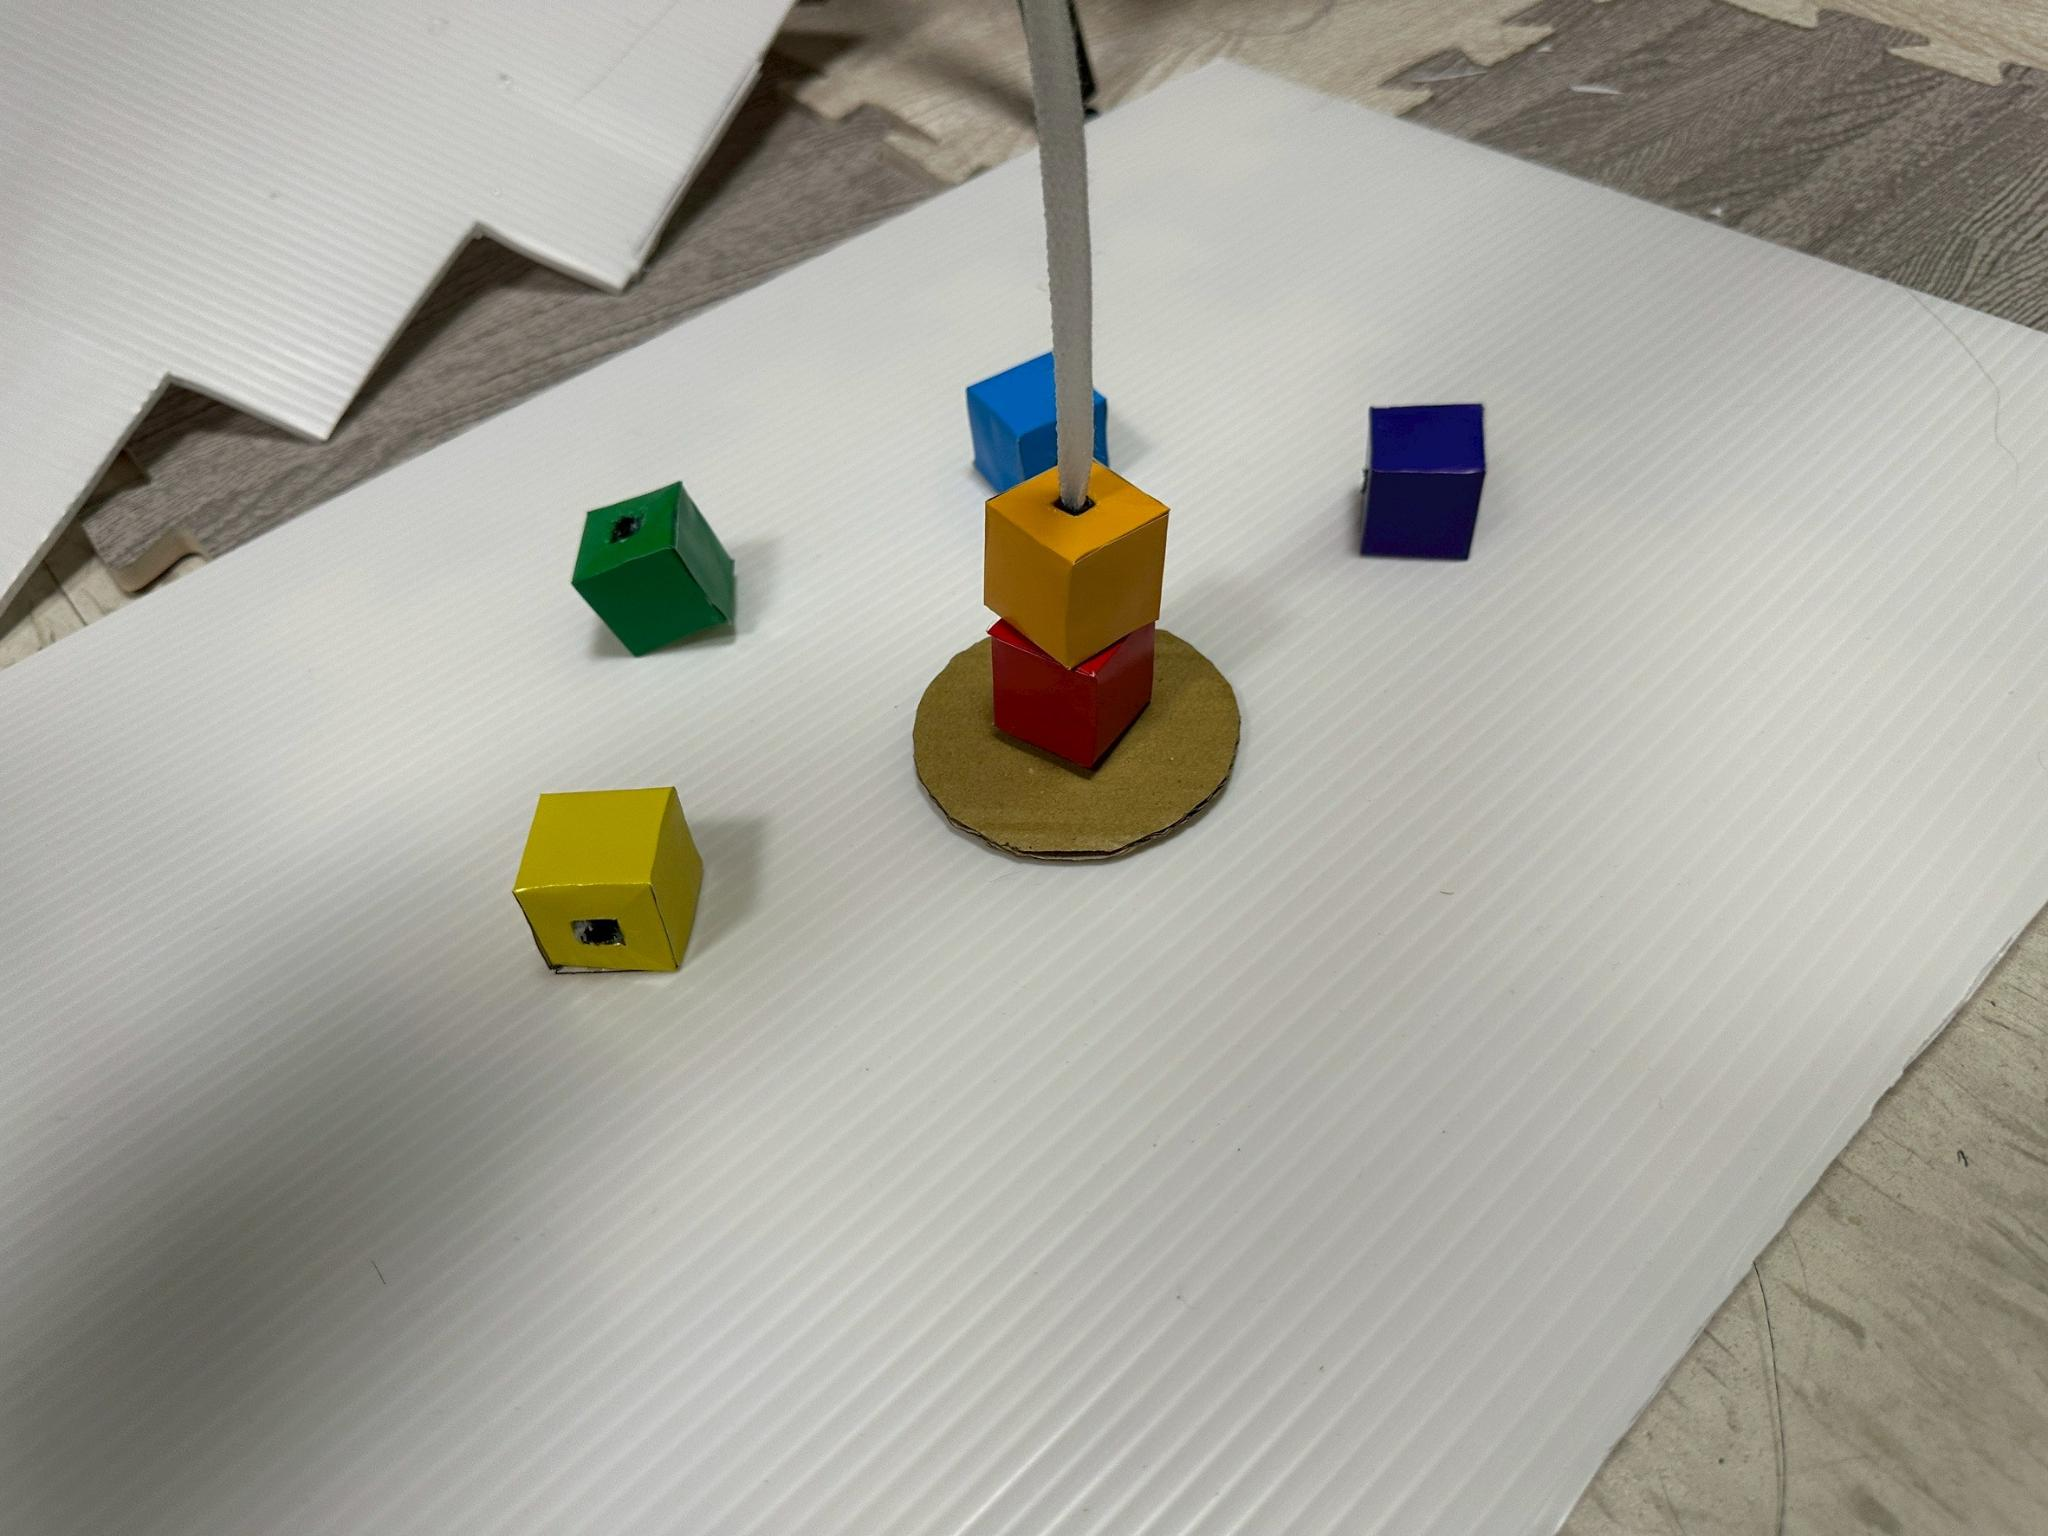base: (984, 470, 1164, 665), (514, 789, 701, 971), (572, 482, 734, 655), (987, 620, 1155, 770), (1361, 403, 1485, 560), (968, 353, 1055, 494), (1095, 394, 1108, 465)
